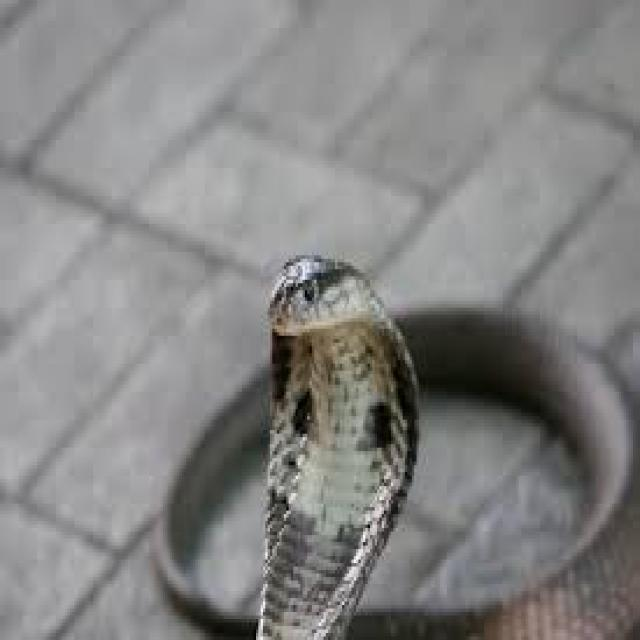Venomous: (242, 240, 424, 558)
